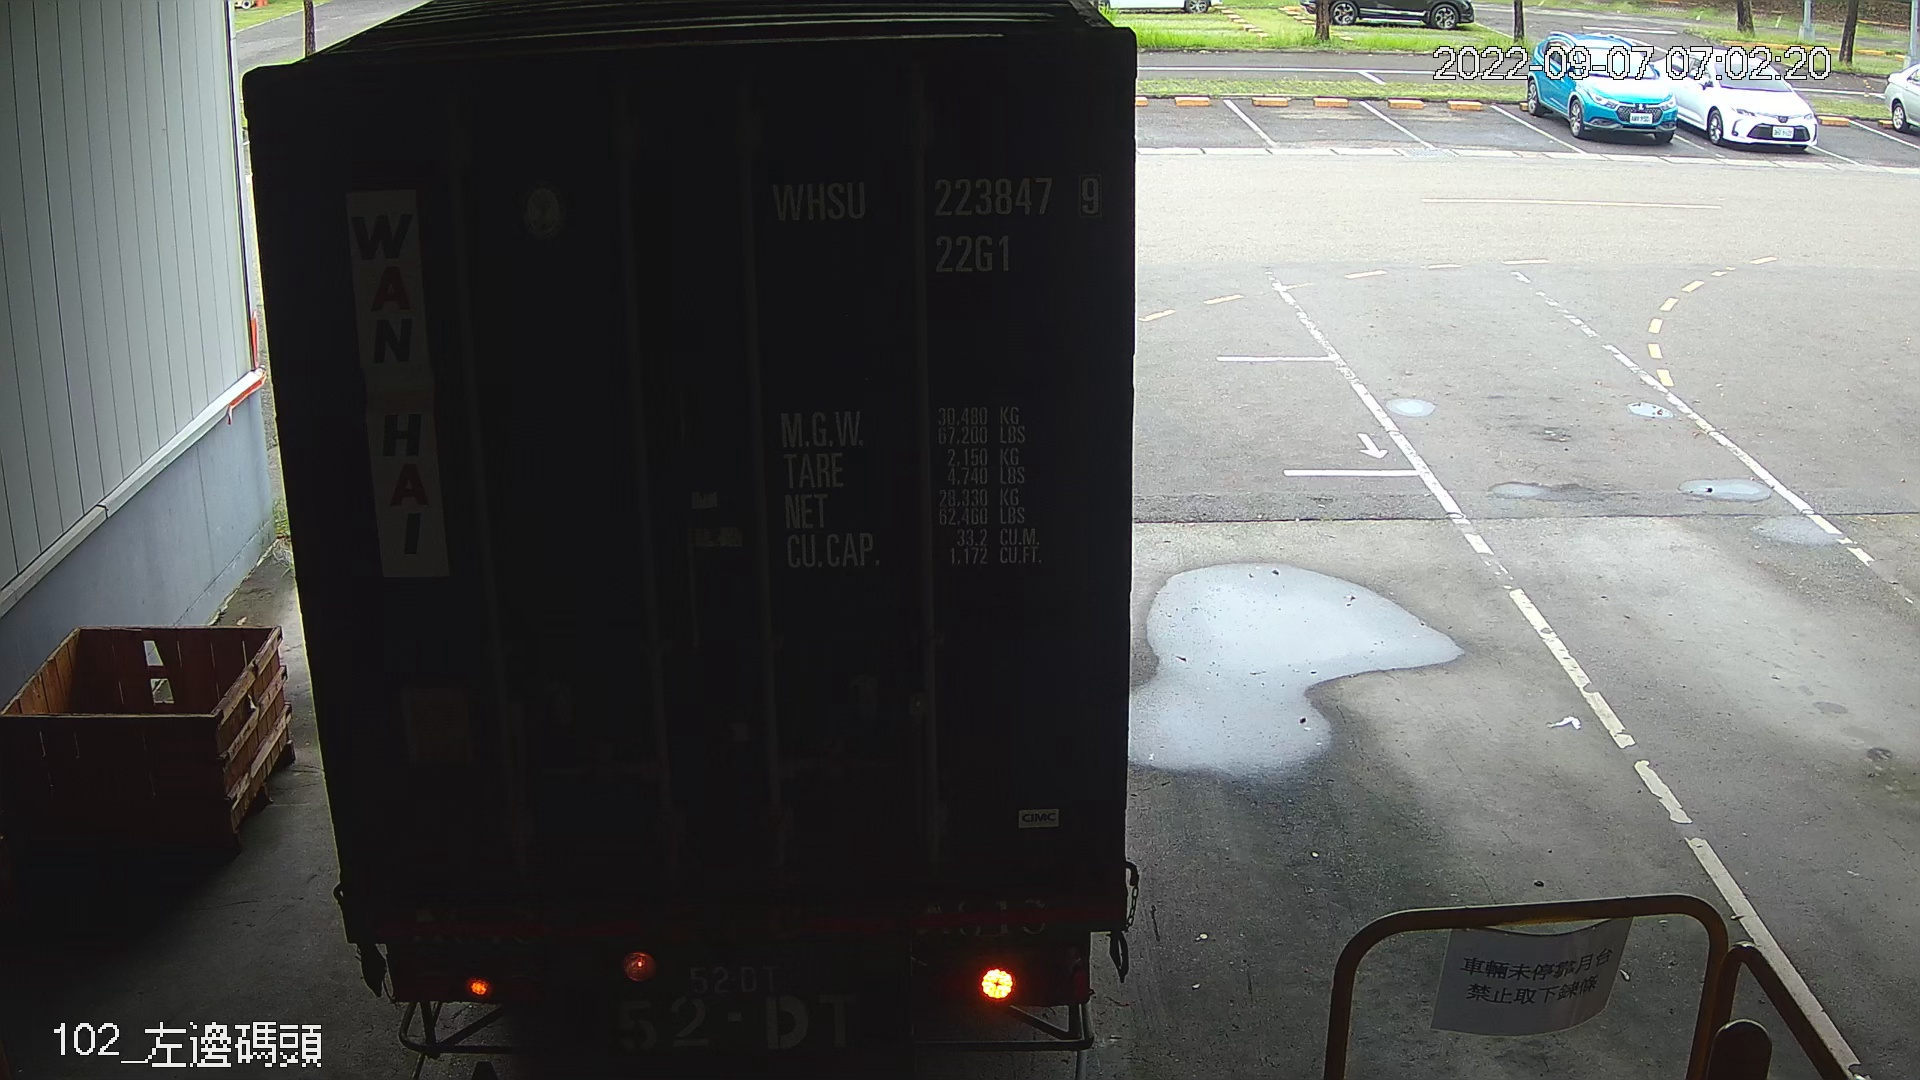container: (760, 161, 1114, 286)
